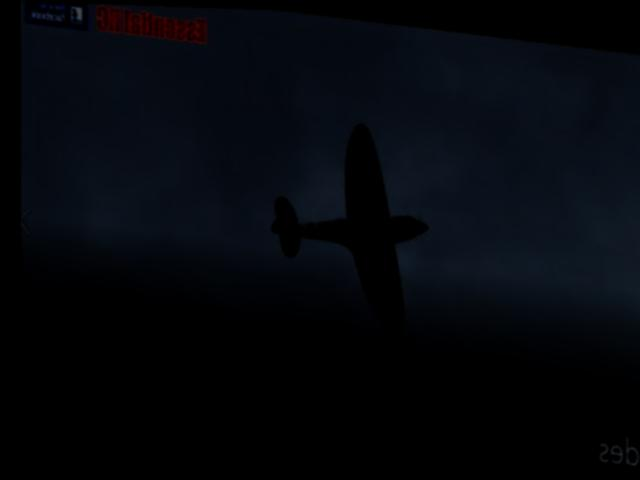uav: (249, 102, 443, 335)
